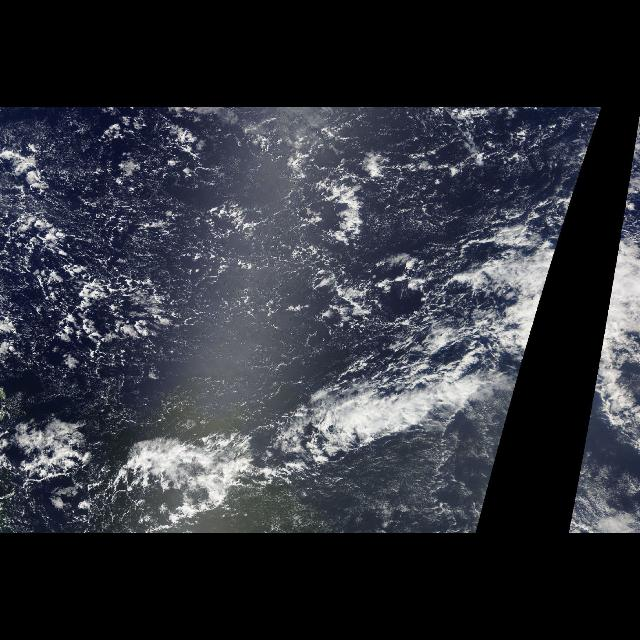Gravel: (5, 115, 432, 373)
